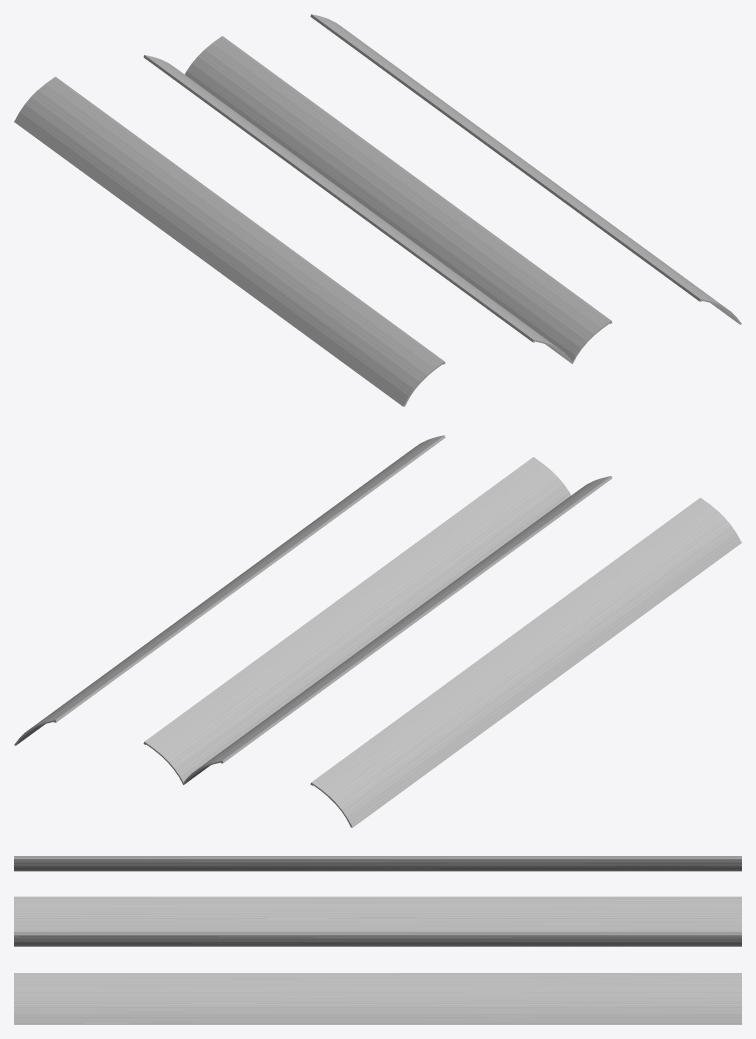
File: ceilingframe_E_001.fbx
The picture shows the model from 3 angles, top to bottom: view 1: azimuth 30°, elevation 25°; view 2: azimuth 150°, elevation 25°; view 3: azimuth 270°, elevation 25°; orthographic projection. The views are drawn at different scales.
Visible parts, largest first — view 1: ceilingframe_E_001; view 2: ceilingframe_E_001; view 3: ceilingframe_E_001.
Part boxes in pixels (x1=…): ceilingframe_E_001: x1=14, y1=14, x2=741, y2=406; ceilingframe_E_001: x1=14, y1=435, x2=741, y2=827; ceilingframe_E_001: x1=14, y1=856, x2=741, y2=1024.
Bounding box in the file's own units: 4482 × 449 × 8915.
1 material, 1 textured.
